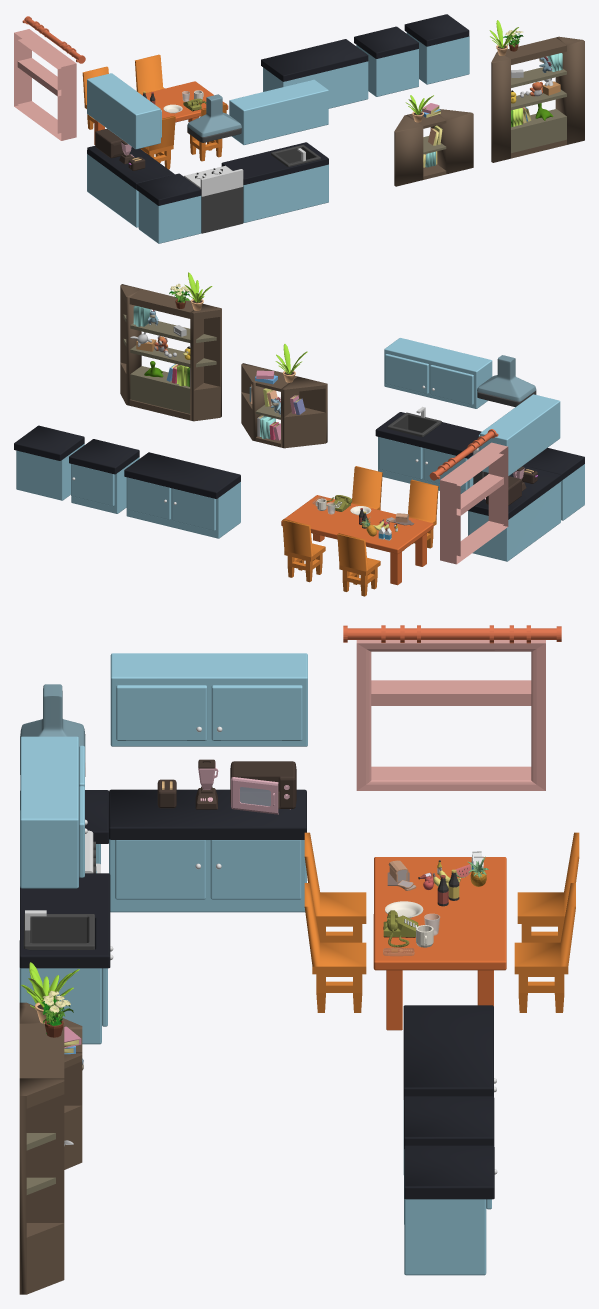
The model's file is Envi_props.fbx.
3 renders of one model, top to bottom at view 1: azimuth 30°, elevation 25°; view 2: azimuth 150°, elevation 25°; view 3: azimuth 270°, elevation 25°, orthographic. The views are drawn at different scales.
Parts seen in each view (by area): view 1: cabi.001, kitchenset1.001, kitchenset1.012, kitchenset2.016, kitchenset1.160, cabi, kitchenset1.006, kitchenset1.005, kitchenset1.003, kitchenset1.004, kitchenset1.002, chairs (+7 smaller); view 2: kitchenset1.012, cabi.001, chairs, kitchenset2.016, kitchenset1.001, kitchenset1.160, cabi, kitchenset1.003, table, kitchenset1.002, kitchenset1.004, kitchenset1.006 (+7 smaller); view 3: kitchenset1.003, kitchenset1.006, kitchenset2.016, table, chairs, cabi.001, kitchenset1.001, kitchenset1.004, kitchenset1.160, kitchenset1.012, kitchenset1.002, kitchenset5.003 (+8 smaller).
Part boxes in pixels (left/top/right/bottom): cabi.001: left=491, top=36, right=584, bottom=162; kitchenset1.001: left=221, top=142, right=328, bottom=222; kitchenset1.012: left=261, top=39, right=368, bottom=108; kitchenset2.016: left=14, top=29, right=76, bottom=140; kitchenset1.160: left=229, top=79, right=328, bottom=144; cabi: left=394, top=109, right=473, bottom=186; kitchenset1.006: left=87, top=73, right=161, bottom=149; kitchenset1.005: left=136, top=173, right=201, bottom=243; kitchenset1.003: left=87, top=146, right=174, bottom=227; kitchenset1.004: left=404, top=14, right=469, bottom=84; kitchenset1.002: left=354, top=26, right=418, bottom=96; chairs: left=82, top=54, right=226, bottom=169; kitchenset1.012: left=124, top=452, right=240, bottom=538; cabi.001: left=120, top=284, right=221, bottom=421; chairs: left=282, top=466, right=438, bottom=596; kitchenset2.016: left=440, top=442, right=508, bottom=564; kitchenset1.001: left=375, top=406, right=481, bottom=493; kitchenset1.160: left=384, top=338, right=492, bottom=408; cabi: left=241, top=363, right=327, bottom=448; kitchenset1.003: left=468, top=465, right=560, bottom=561; table: left=281, top=495, right=433, bottom=585; kitchenset1.002: left=69, top=439, right=139, bottom=513; kitchenset1.004: left=14, top=425, right=84, bottom=500; kitchenset1.006: left=478, top=394, right=560, bottom=475; kitchenset1.003: left=109, top=789, right=306, bottom=912; kitchenset1.006: left=110, top=653, right=307, bottom=746; kitchenset2.016: left=356, top=640, right=545, bottom=790; table: left=373, top=857, right=506, bottom=1030; chairs: left=304, top=832, right=579, bottom=1012; cabi.001: left=19, top=1006, right=64, bottom=1294; kitchenset1.001: left=19, top=873, right=113, bottom=1044; kitchenset1.004: left=404, top=1145, right=494, bottom=1275; kitchenset1.160: left=20, top=736, right=87, bottom=888; kitchenset1.012: left=403, top=1005, right=496, bottom=1174; kitchenset1.002: left=404, top=1096, right=497, bottom=1224; kitchenset5.003: left=230, top=761, right=296, bottom=814.
Size of the model in its own units: 1785 by 500 by 985.
